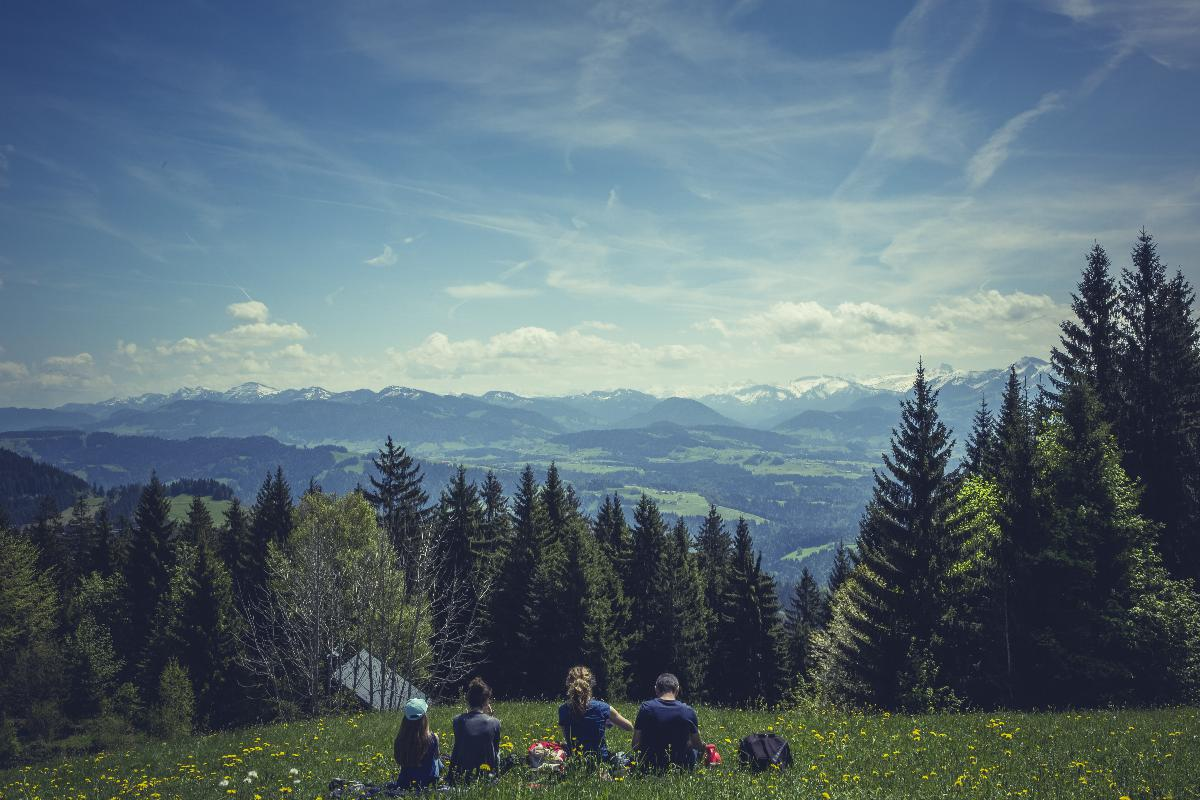Person: (635, 673, 721, 769), (552, 667, 635, 763), (454, 673, 506, 779), (388, 698, 446, 790)
